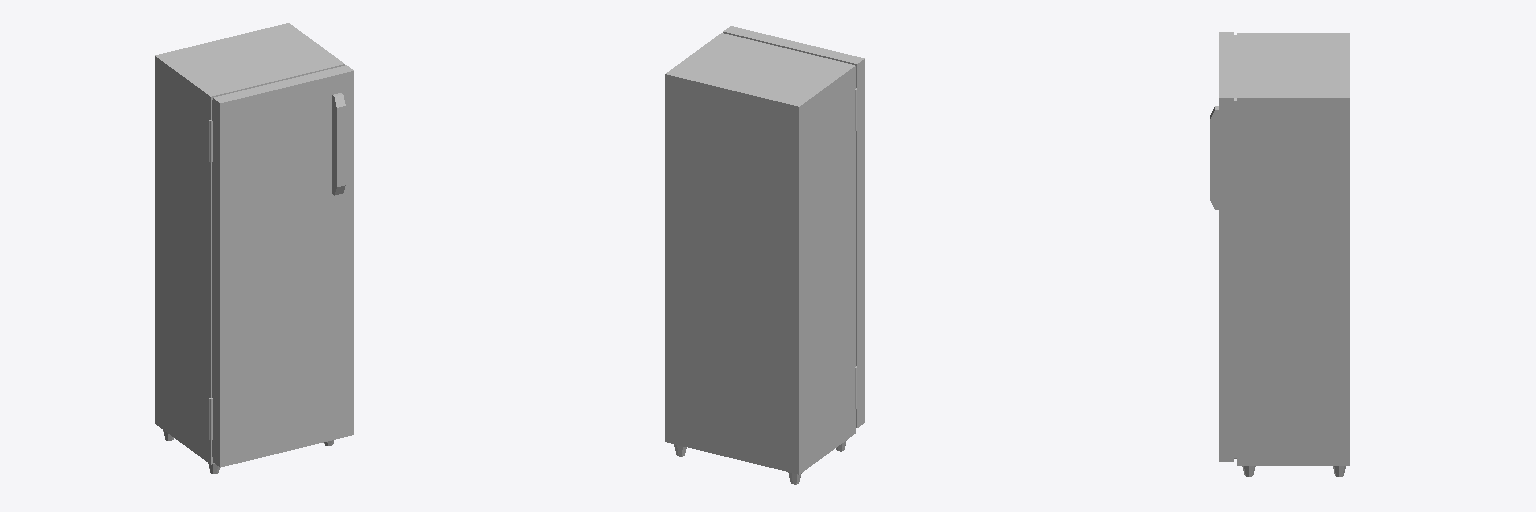
Rendered from appliance_refrigerator.obj.
3 renders of one model, left to right at view 1: azimuth 30°, elevation 25°; view 2: azimuth 150°, elevation 25°; view 3: azimuth 270°, elevation 25°, orthographic.
Visible parts, largest first — view 1: appliance_refrigerator_door_Cube.238, appliance_refrigerator_Cube.237; view 2: appliance_refrigerator_Cube.237, appliance_refrigerator_door_Cube.238; view 3: appliance_refrigerator_Cube.237, appliance_refrigerator_door_Cube.238.
Part boxes in pixels (bbox=[...]): appliance_refrigerator_door_Cube.238: bbox=[212, 65, 353, 467]; appliance_refrigerator_Cube.237: bbox=[155, 23, 344, 473]; appliance_refrigerator_Cube.237: bbox=[665, 33, 856, 484]; appliance_refrigerator_door_Cube.238: bbox=[723, 26, 864, 427]; appliance_refrigerator_Cube.237: bbox=[1237, 33, 1349, 476]; appliance_refrigerator_door_Cube.238: bbox=[1210, 32, 1236, 461].
Size of the model in its own units: 12.37 by 33.28 by 11.05.